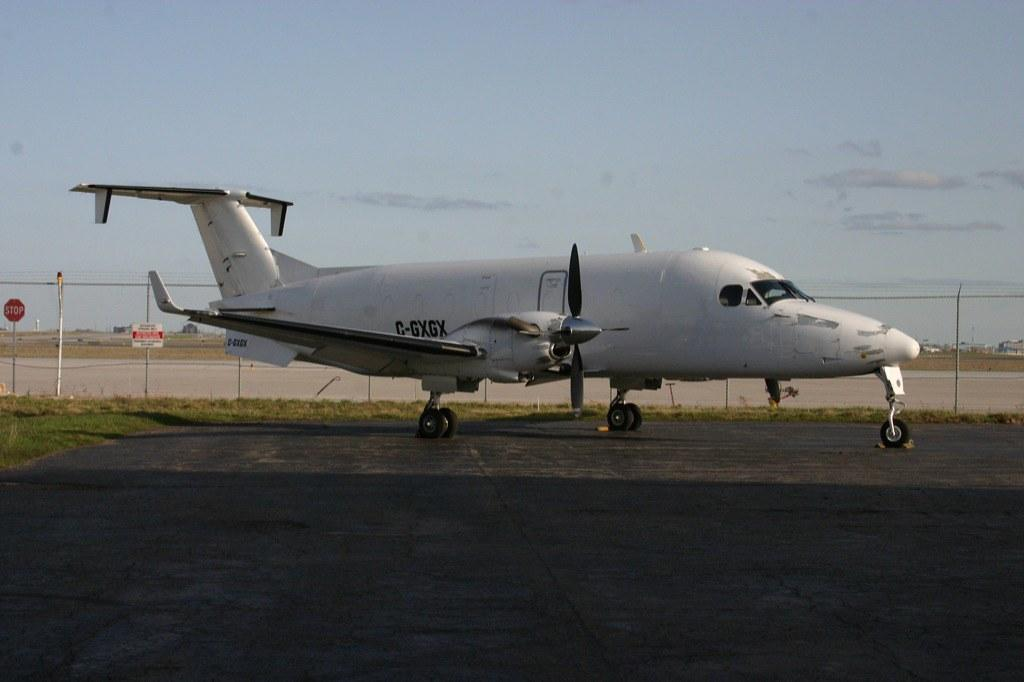plane: (69, 182, 922, 447)
